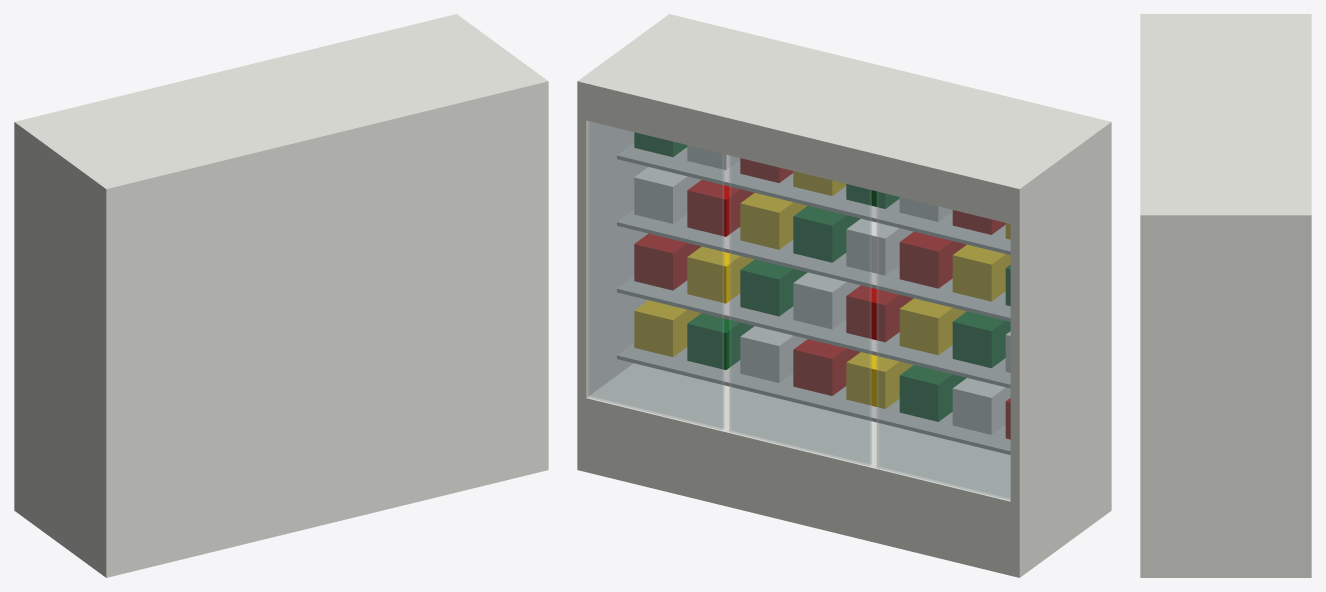
File: retail.shop.freezer.glb
3 views of the same model, side by side, from view 1: azimuth 30°, elevation 25°; view 2: azimuth 150°, elevation 25°; view 3: azimuth 270°, elevation 25° (orthographic). The views are drawn at different scales.
Visible parts, largest first — view 1: main__paint_white; view 2: main__paint_white, main__glass, main__steel_stainless, main__plastic_yellow, main__plastic_red, main__plastic_green, main__plastic_white; view 3: main__paint_white.
Boxes of the visible parts, x1,y1,x2,y2 form: main__paint_white: [14, 14, 548, 577]; main__paint_white: [577, 14, 1111, 577]; main__glass: [587, 121, 1010, 500]; main__steel_stainless: [617, 143, 1010, 454]; main__plastic_yellow: [634, 171, 1010, 408]; main__plastic_red: [634, 158, 1010, 439]; main__plastic_green: [634, 132, 1010, 421]; main__plastic_white: [634, 145, 1010, 434]; main__paint_white: [1140, 14, 1311, 577].
Bounding box in the file's own units: 2.5 × 2.1 × 0.9.
